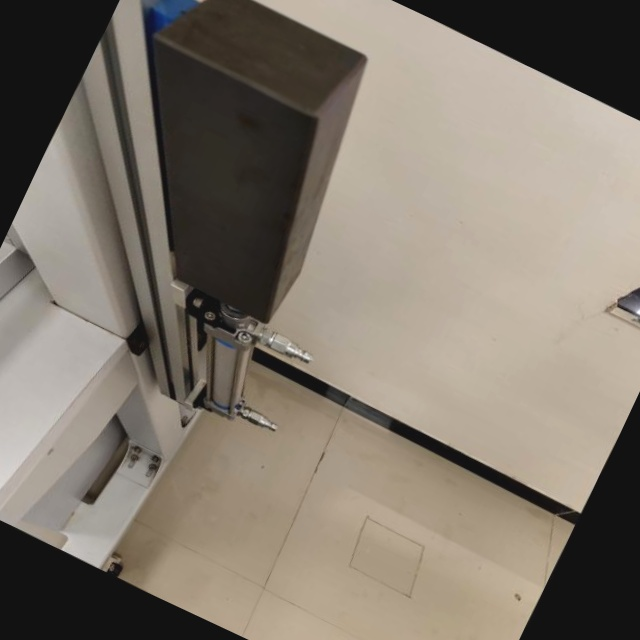load: (0, 0, 455, 454)
